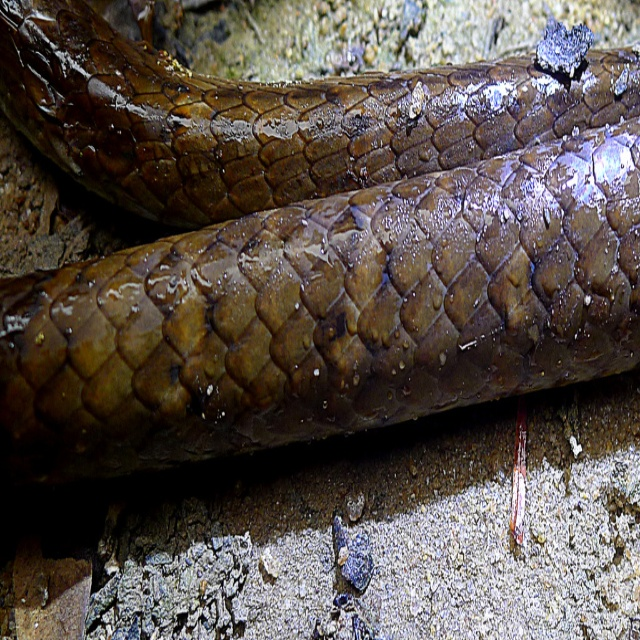Snake: (0, 0, 640, 506)
